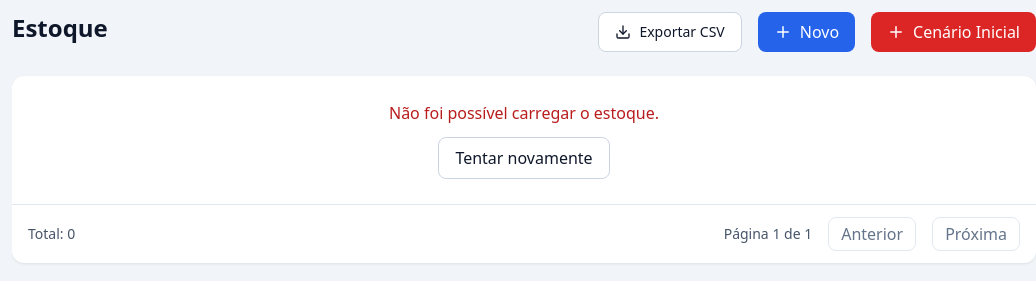
it: InventoryListPage › erro da API mostra mensagem com "Tentar novamente", não tabela vazia
Expected: the message shows "Não foi possível carregar o estoque.", [389, 102, 659, 124]
Click the button "Tentar novamente" at (524, 158), box [438, 137, 610, 179]
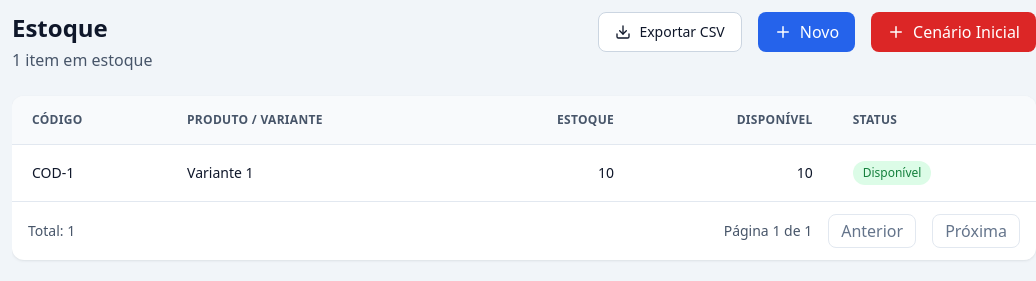
Result: the link "COD-1" is shown at [32, 163, 74, 182]
